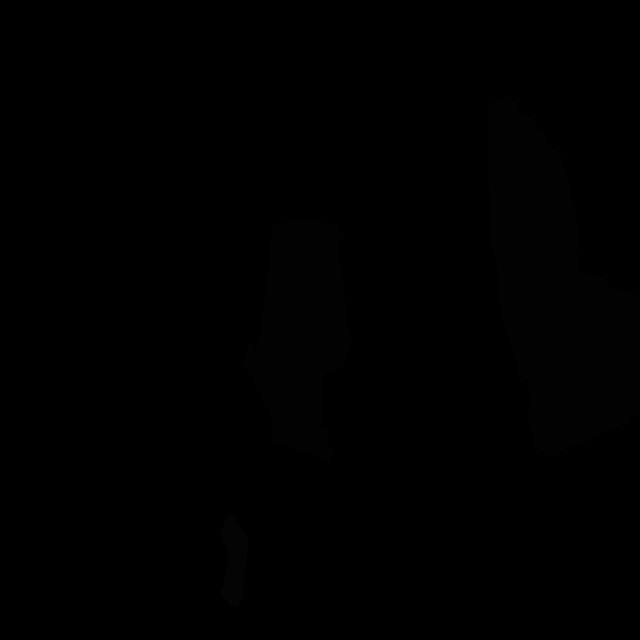cardboard: (486, 96, 640, 457), (240, 221, 352, 464)
soft_plastic: (221, 515, 248, 608)
